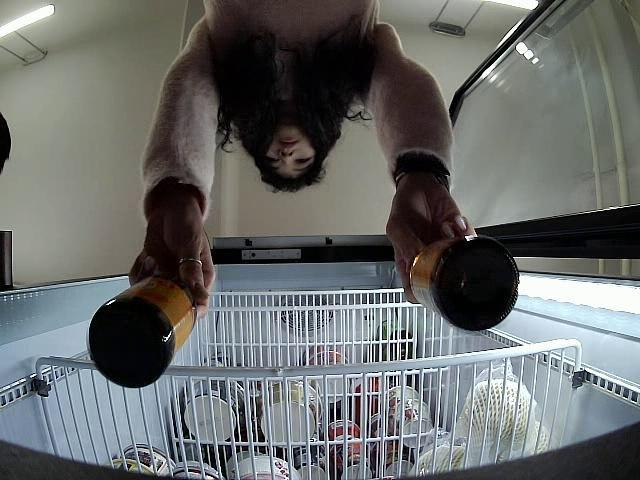17_vita500: (86, 270, 200, 390), (402, 236, 521, 334)
